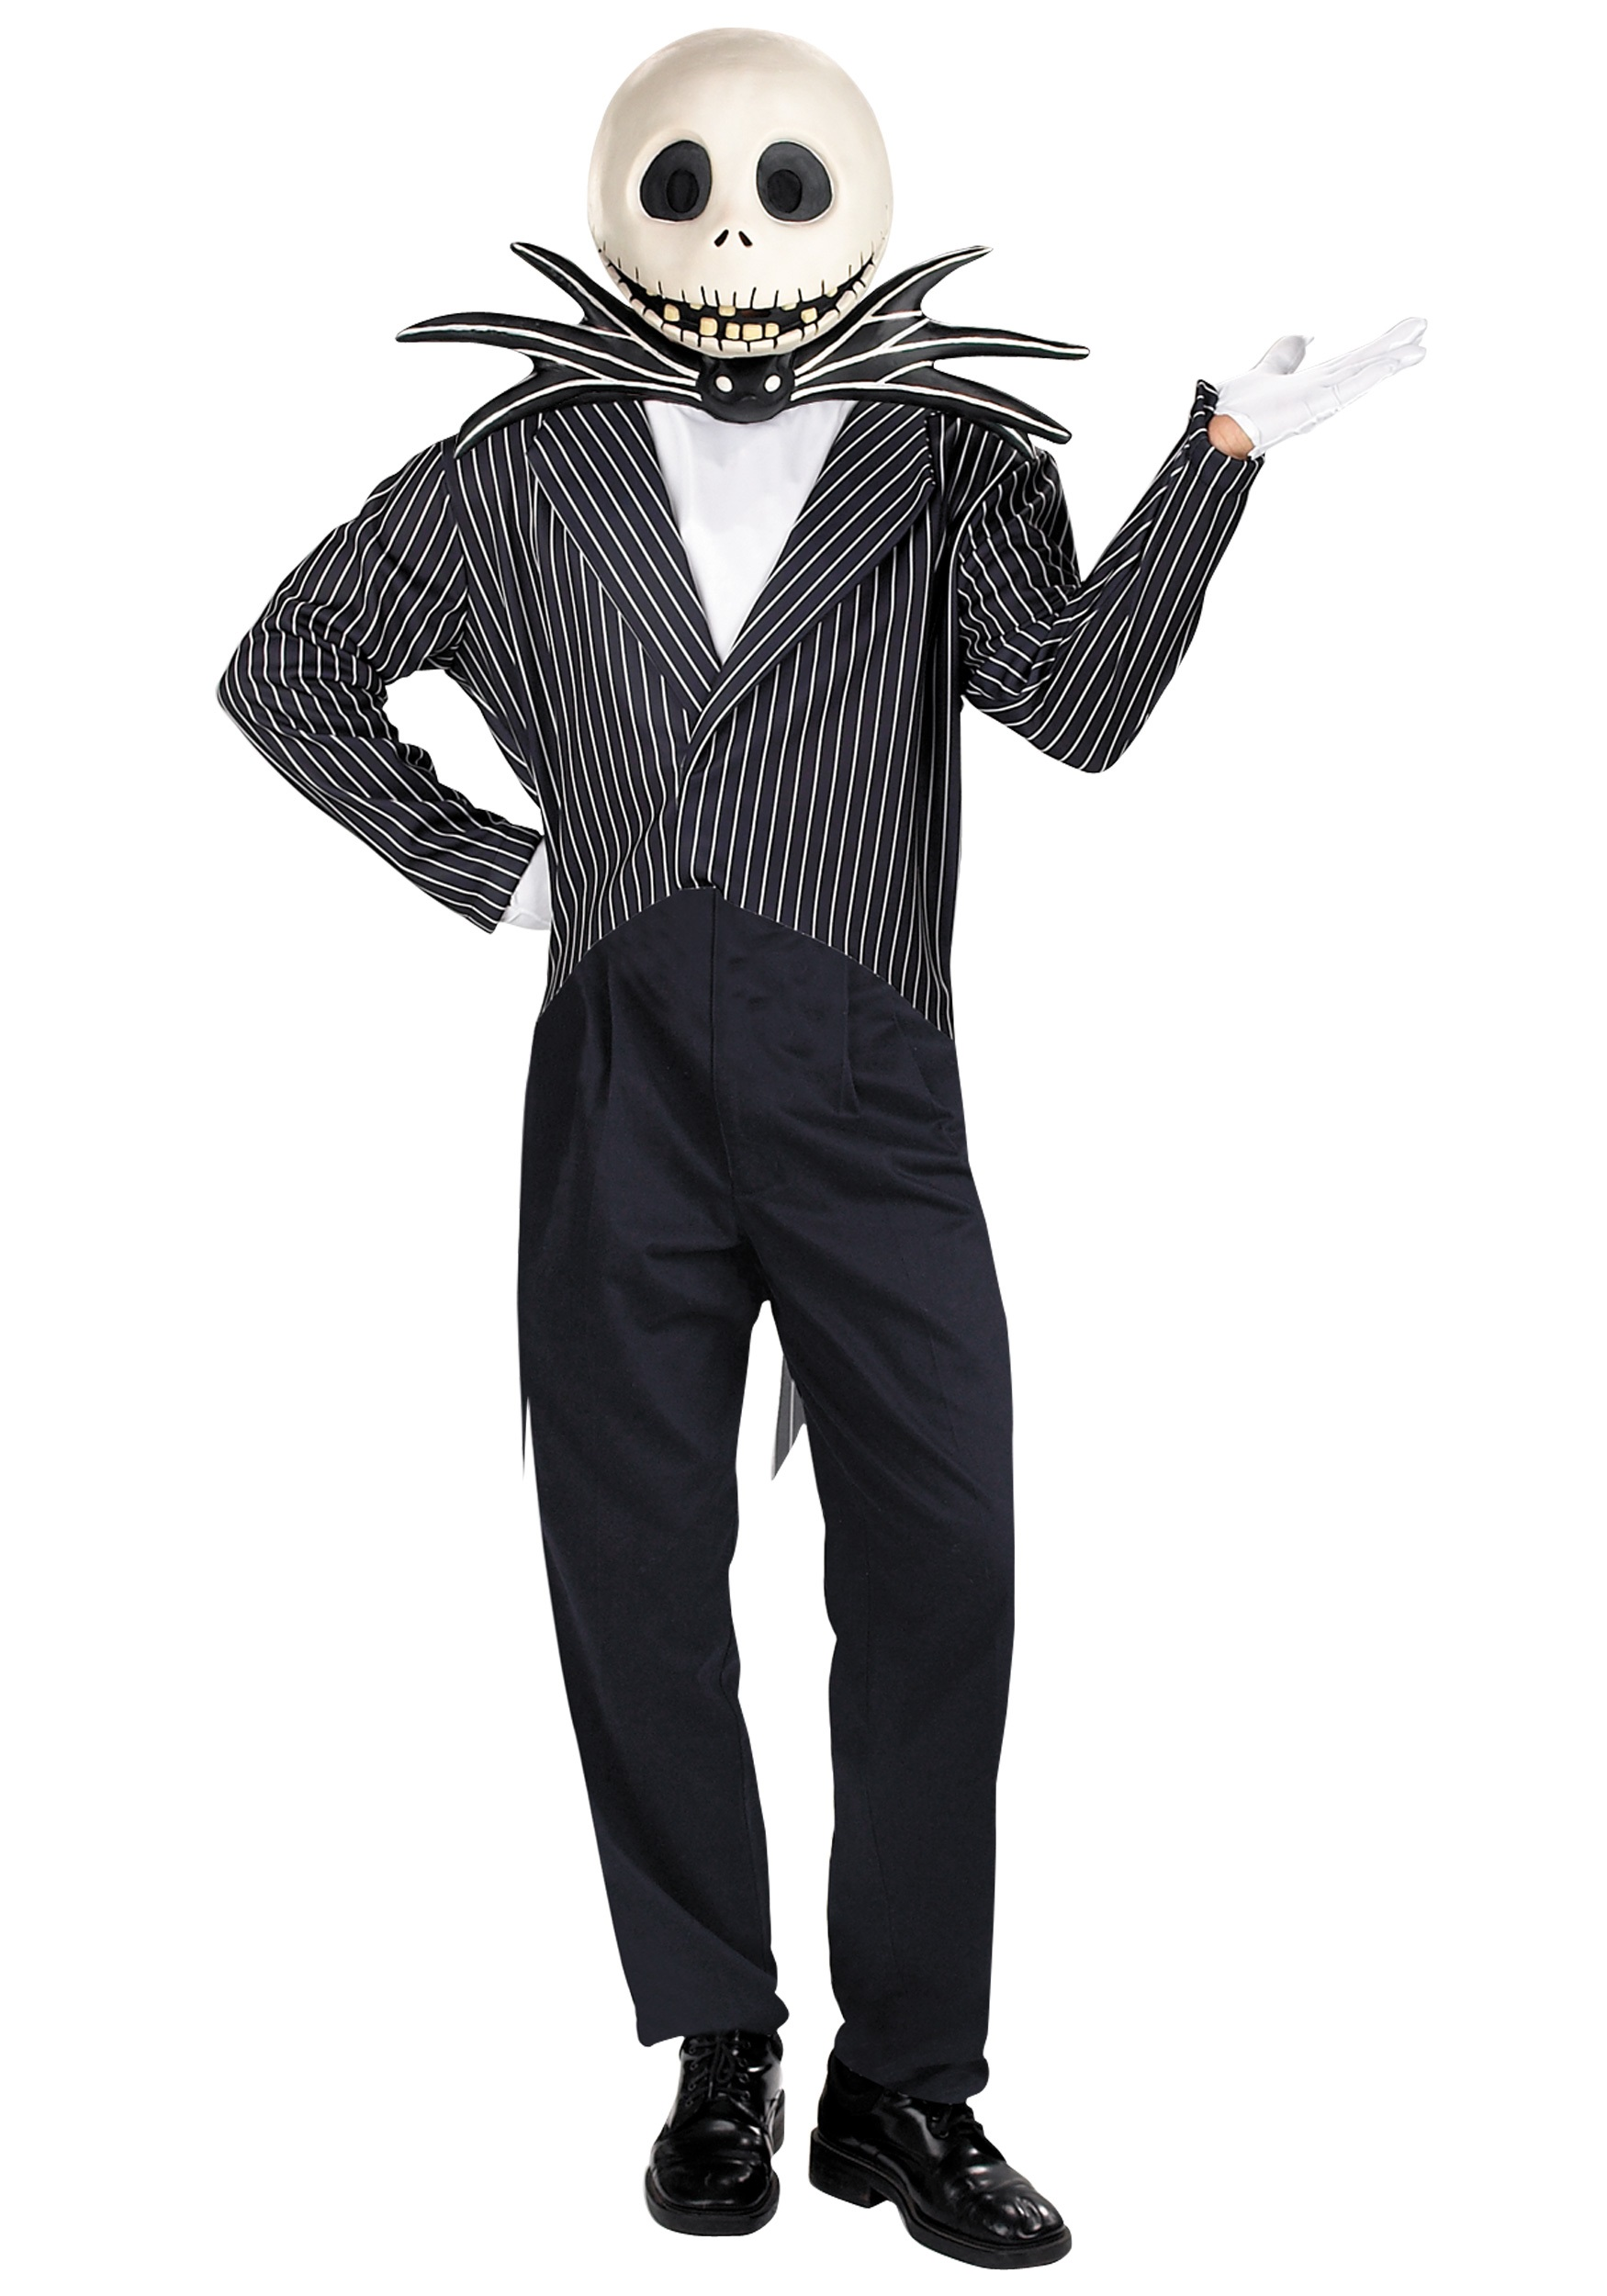Jack Skellington: (209, 24, 1434, 2270)
